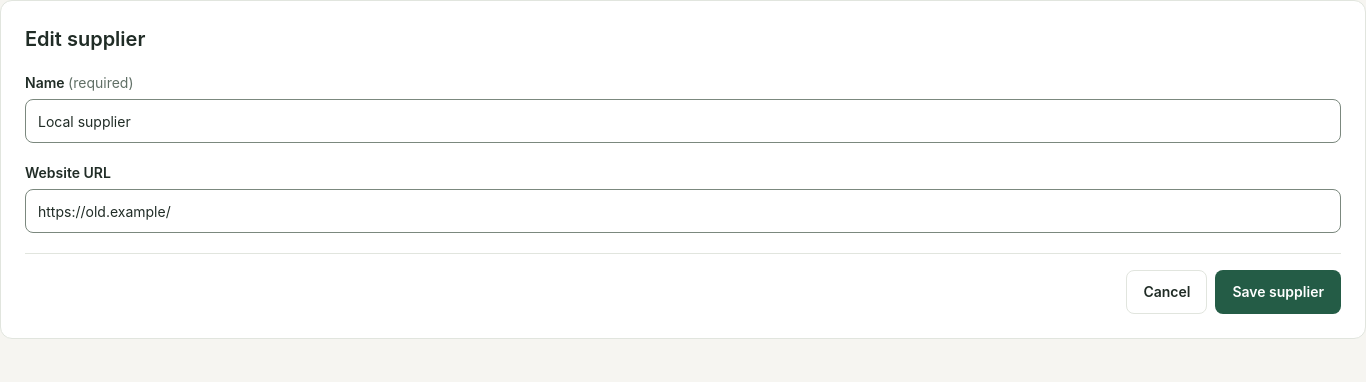
Scenario: supplier website form handling › links invalid website errors to the input and preserves its draft
Replace the text in the field with id "supplier-website" with "hello": x=683, y=211 left=25, top=189, right=1341, bottom=233
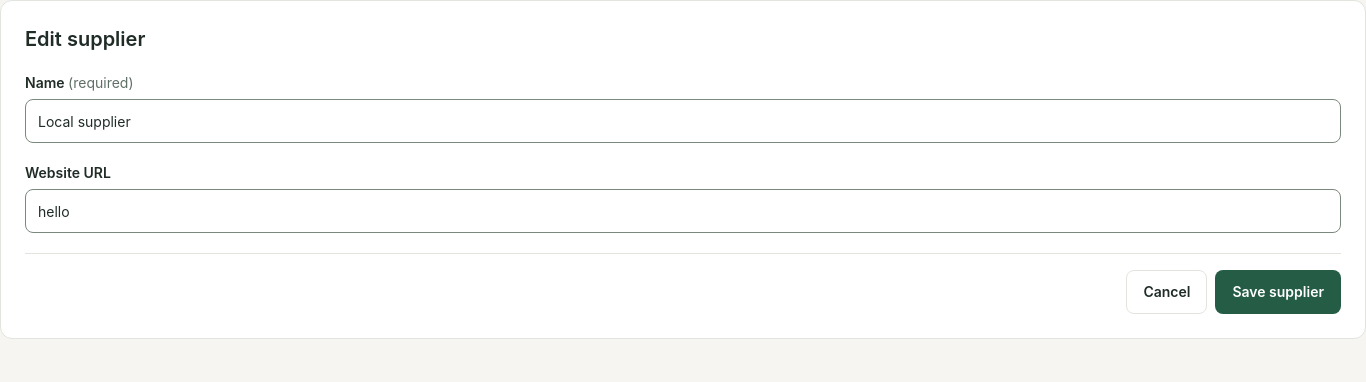
Submit the form
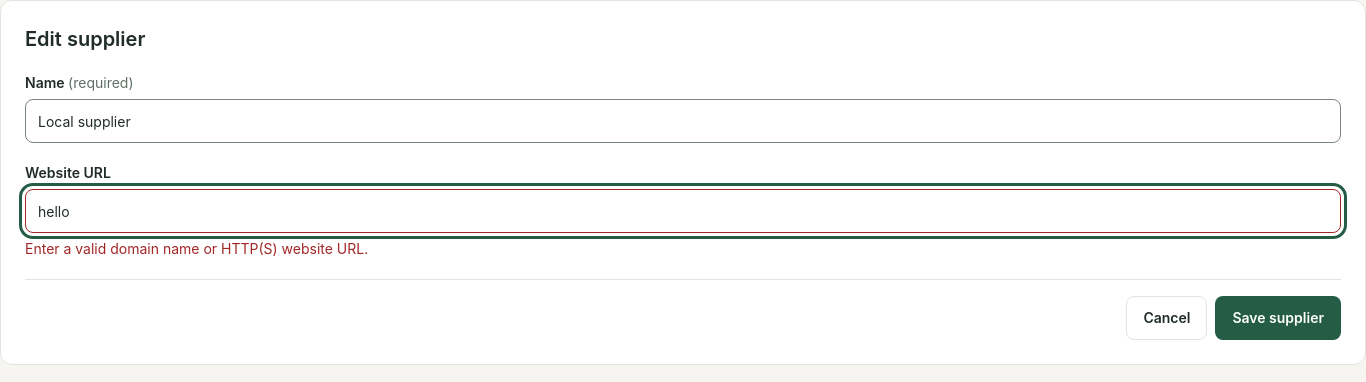
Expected: the message with id "supplier-website-error" shows "valid domain name", left=25, top=240, right=368, bottom=257
